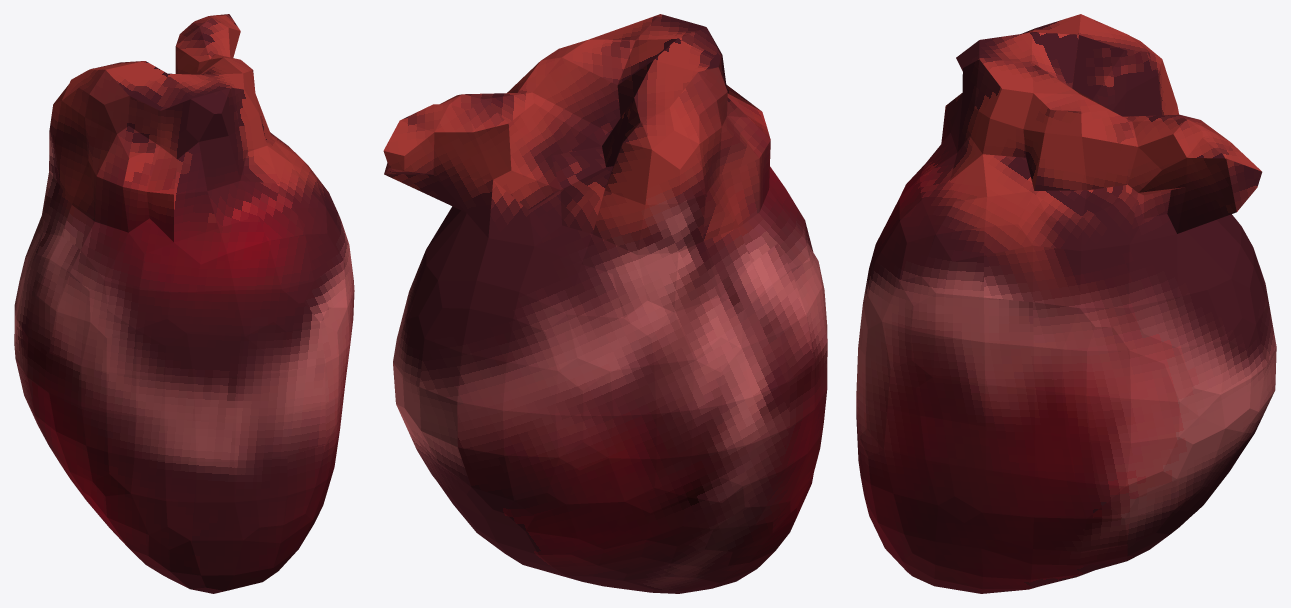
File: Heart.glb
3 renders of one model, left to right at view 1: azimuth 30°, elevation 25°; view 2: azimuth 150°, elevation 25°; view 3: azimuth 270°, elevation 25°, orthographic. The views are drawn at different scales.
Visible parts, largest first — view 1: Cylinder.001; view 2: Cylinder.001; view 3: Cylinder.001.
Part boxes in pixels (x1,y1,x2,y2): Cylinder.001: (14,14,354,593); Cylinder.001: (383,14,827,593); Cylinder.001: (856,14,1276,593).
Size of the model in its own units: 1.48 by 2.37 by 1.68.
1 material, 1 textured.
